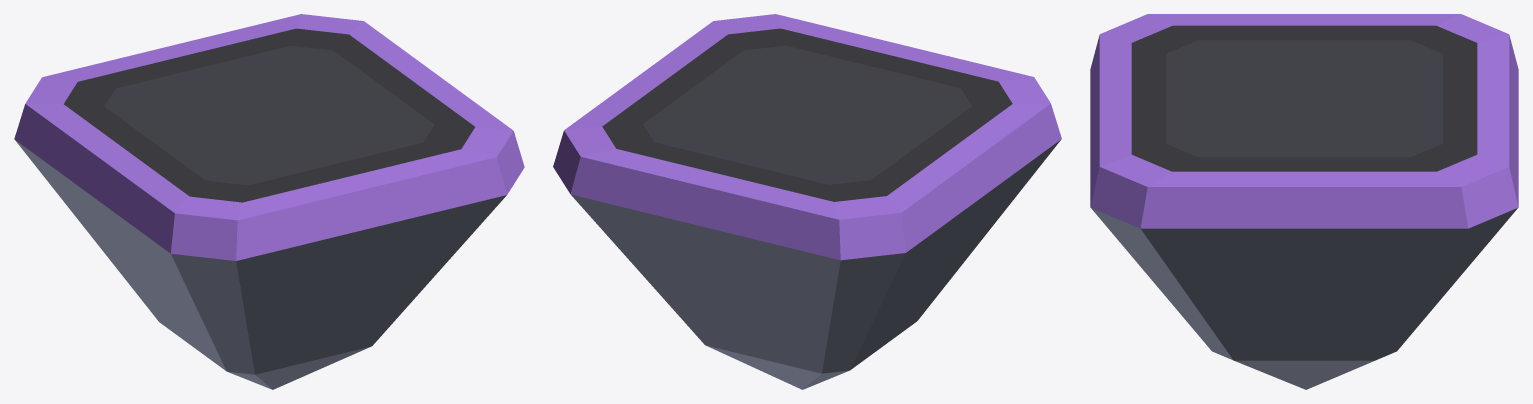
File: jumppad.fbx
The picture shows the model from 3 angles, left to right: view 1: azimuth 30°, elevation 25°; view 2: azimuth 150°, elevation 25°; view 3: azimuth 270°, elevation 25°; orthographic projection. The views are drawn at different scales.
Parts seen in each view (by area): view 1: jumppad; view 2: jumppad; view 3: jumppad.
Boxes of the visible parts, left/top/right/bottom form: jumppad: left=14, top=14, right=524, bottom=389; jumppad: left=553, top=14, right=1061, bottom=389; jumppad: left=1090, top=14, right=1518, bottom=389.
Size of the model in its own units: 85.34 by 63.59 by 85.34.
Materials: 1 (1 with a texture image).
